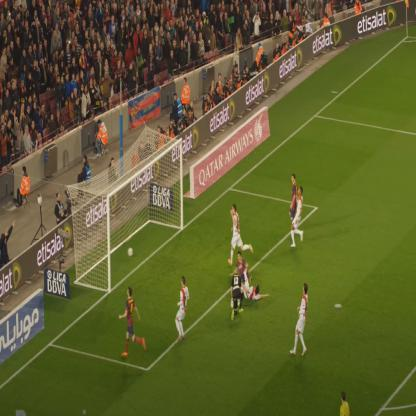goal: (65, 127, 214, 291)
